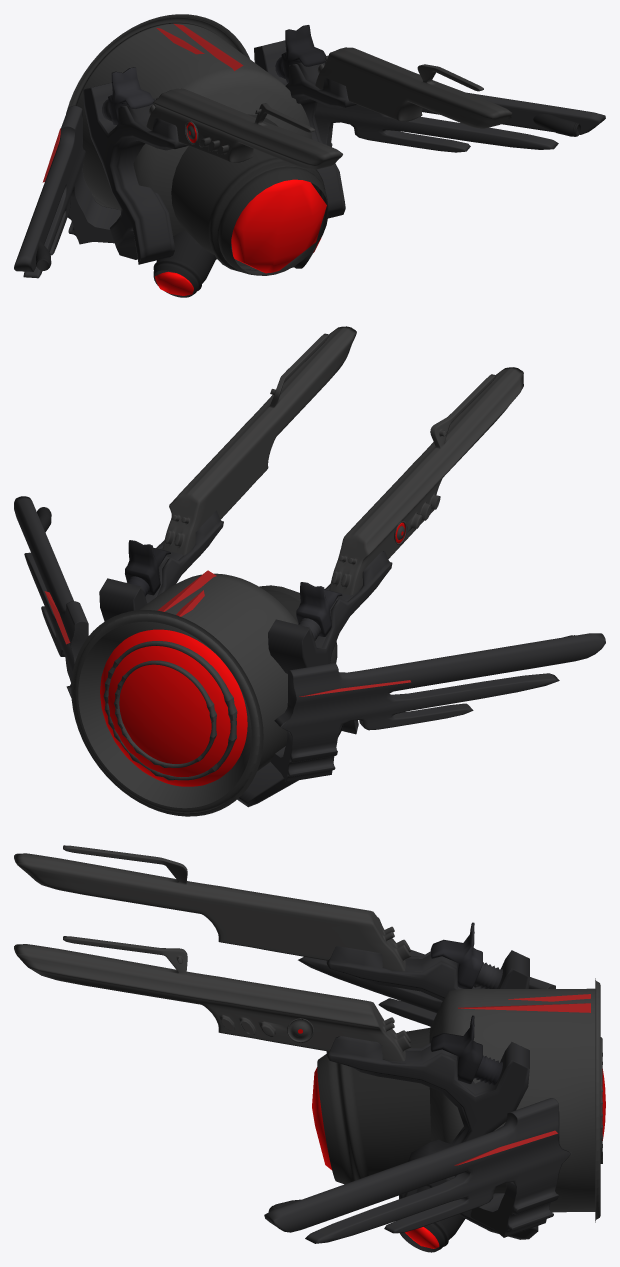
3 views of the same model, one above another, from view 1: azimuth 30°, elevation 25°; view 2: azimuth 150°, elevation 25°; view 3: azimuth 270°, elevation 25° (orthographic). The views are drawn at different scales.
Visible parts, largest first — view 1: Sphere.001; view 2: Sphere.001; view 3: Sphere.001.
Part boxes in pixels (x1=…): Sphere.001: x1=14, y1=14, x2=605, y2=297; Sphere.001: x1=14, y1=326, x2=605, y2=816; Sphere.001: x1=14, y1=845, x2=605, y2=1252.
Size of the model in its own units: 541 by 255 by 423.
